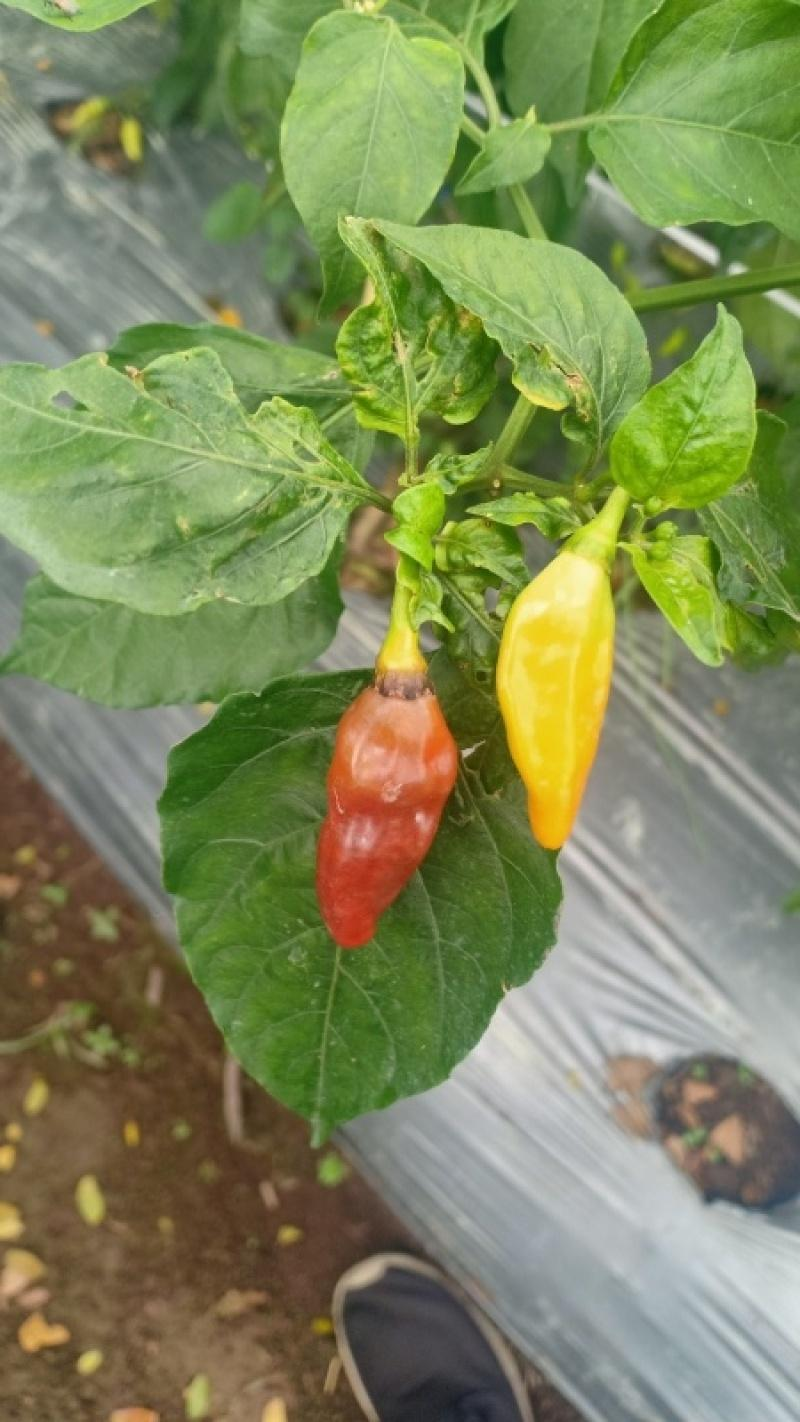cabai_normal: (499, 550, 620, 854)
lalat_buah: (318, 697, 459, 958)
